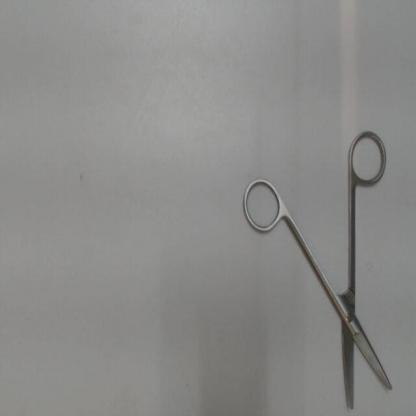Curved Mayo Scissors: (238, 124, 399, 413)
